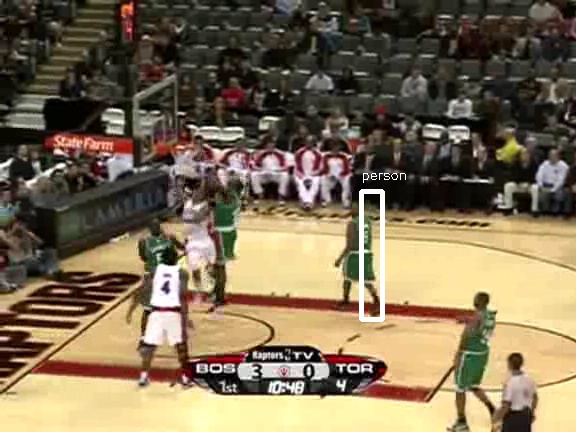person: (344, 208, 378, 289), (343, 208, 377, 289), (345, 208, 379, 289), (344, 207, 378, 288), (344, 209, 378, 290)
target_negative: (78, 34, 576, 329), (378, 133, 497, 412), (304, 294, 502, 419), (412, 152, 502, 335), (304, 328, 504, 407), (85, 333, 311, 374)
